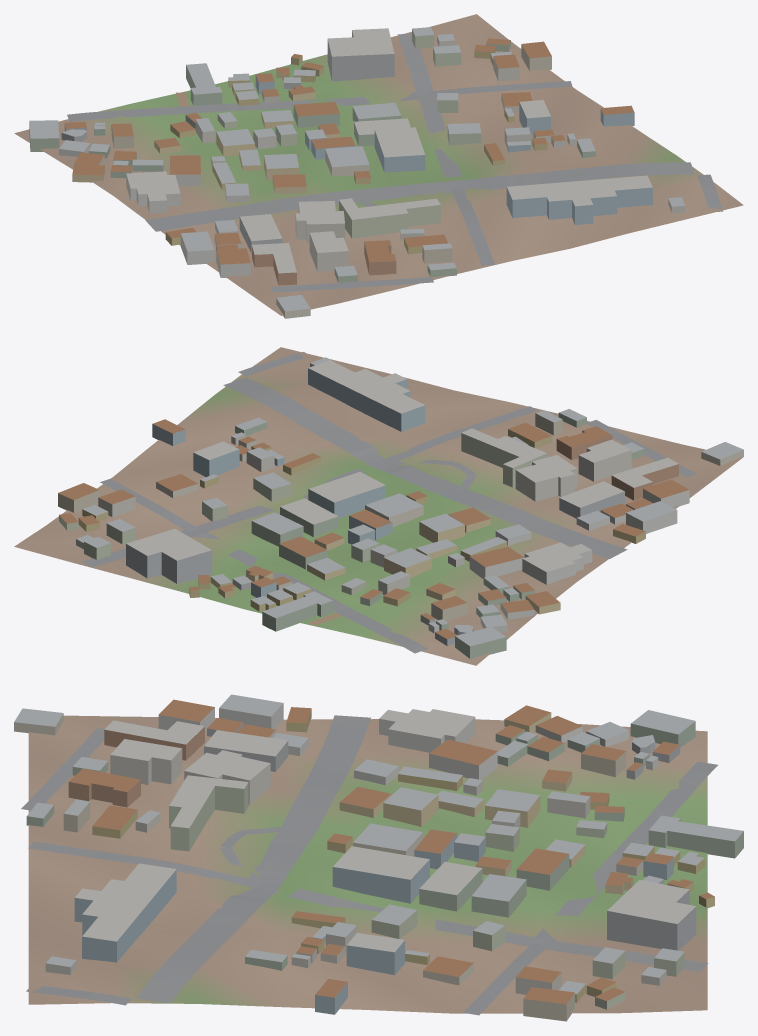
The picture shows the model from 3 angles, top to bottom: view 1: azimuth 30°, elevation 25°; view 2: azimuth 150°, elevation 25°; view 3: azimuth 270°, elevation 25°; orthographic projection. The views are drawn at different scales.
Visible parts, largest first — view 1: Lo; view 2: Lo; view 3: Lo.
Part boxes in pixels (x1=…): Lo: x1=14, y1=14, x2=743, y2=318; Lo: x1=14, y1=347, x2=743, y2=665; Lo: x1=14, y1=694, x2=743, y2=1021.
Size of the model in its own units: 270 by 16.6 by 275.
